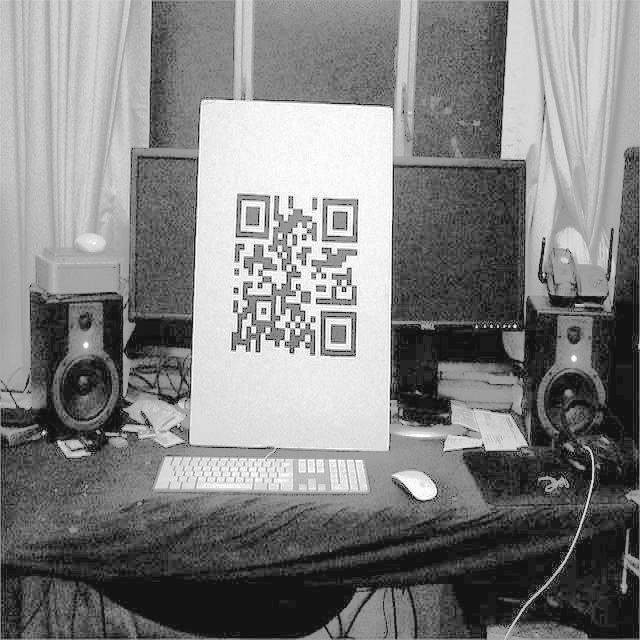qr_code: (231, 195, 357, 356)
